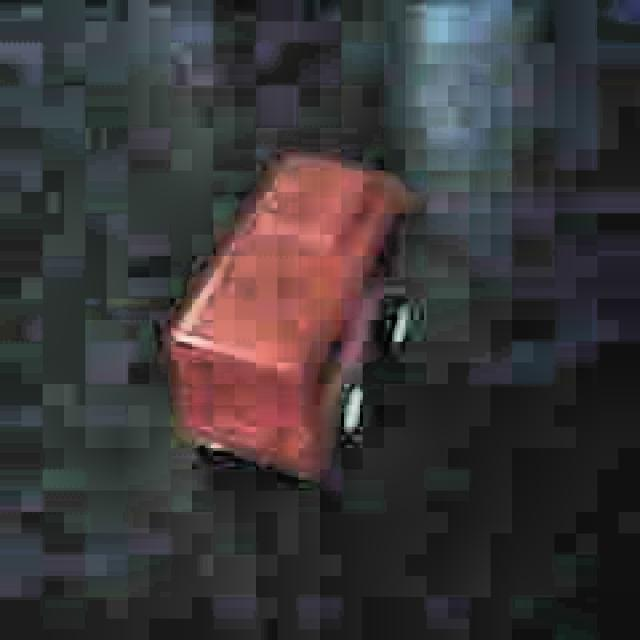bus: (155, 140, 426, 485)
